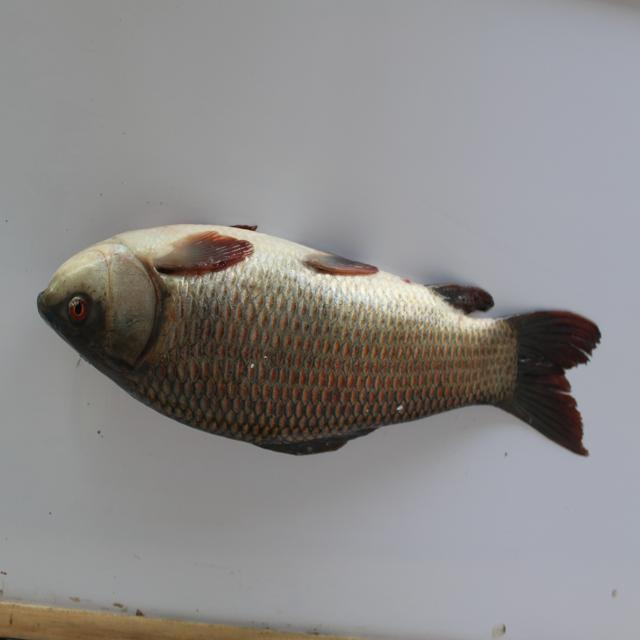Rohu: (32, 216, 616, 475)
